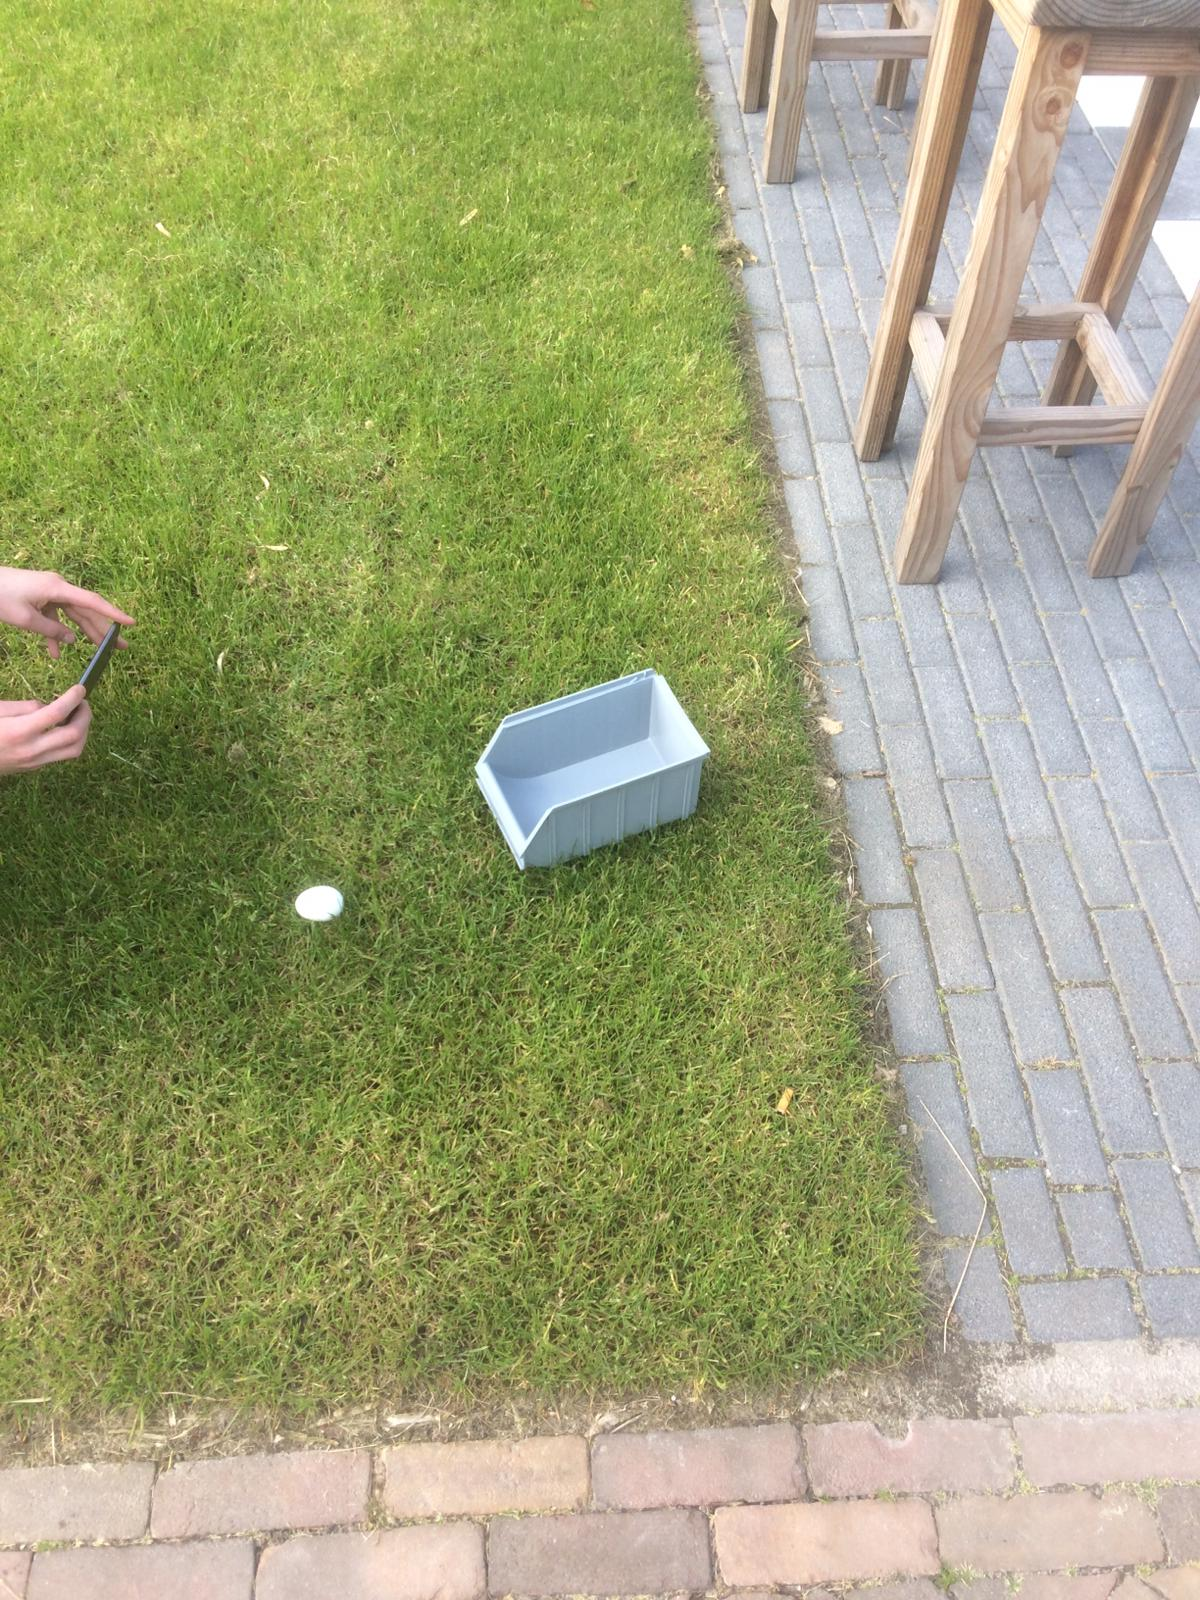egg: (286, 879, 355, 930)
tray_right: (513, 748, 705, 866)
